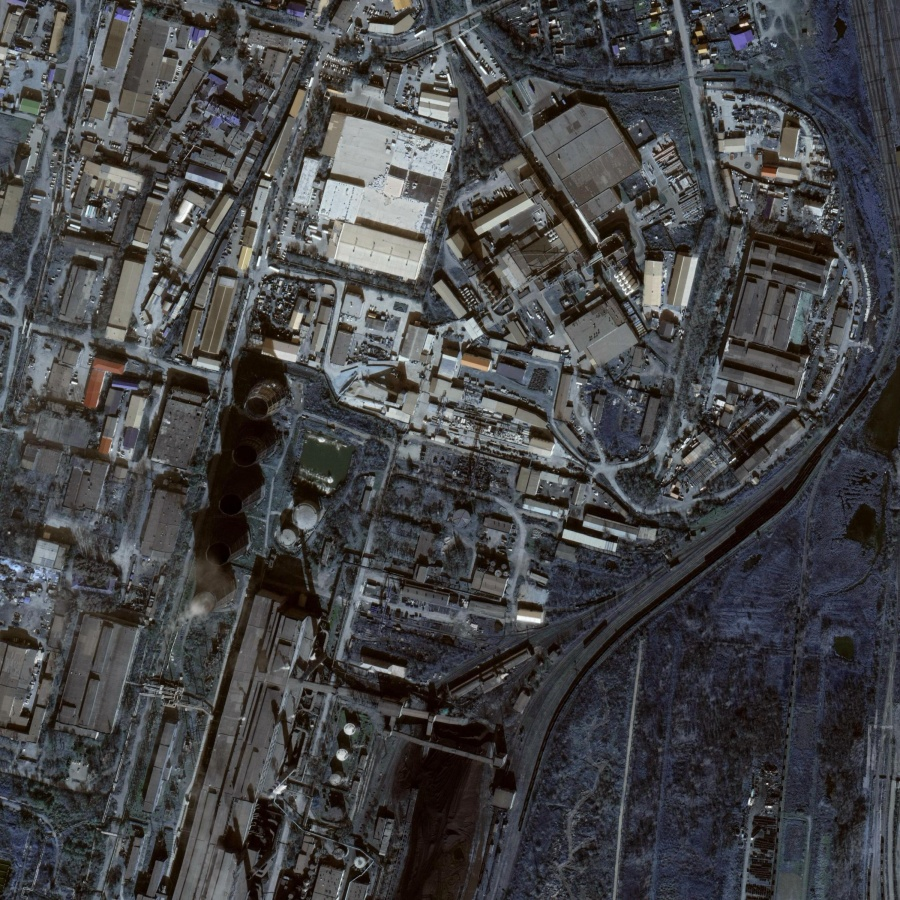PowerPlant: (160, 331, 330, 670)
